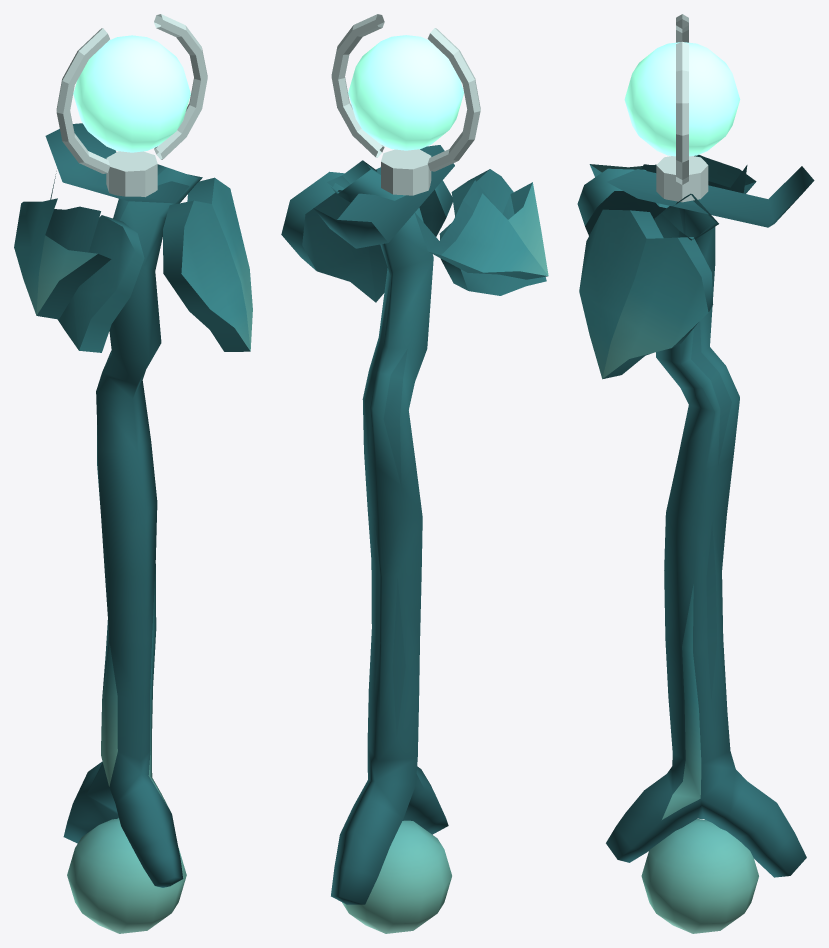
File: staff_wind_common.glb
3 views of the same model, side by side, from view 1: azimuth 30°, elevation 25°; view 2: azimuth 150°, elevation 25°; view 3: azimuth 270°, elevation 25° (orthographic).
Parts seen in each view (by area): view 1: staff_wind_common; view 2: staff_wind_common; view 3: staff_wind_common.
Boxes of the visible parts, x1=… form: staff_wind_common: x1=14, y1=14, x2=252, y2=933; staff_wind_common: x1=281, y1=14, x2=548, y2=933; staff_wind_common: x1=577, y1=14, x2=814, y2=933.
Size of the model in its own units: 45.93 by 172 by 41.12.
Materials: 3 (1 with a texture image).
